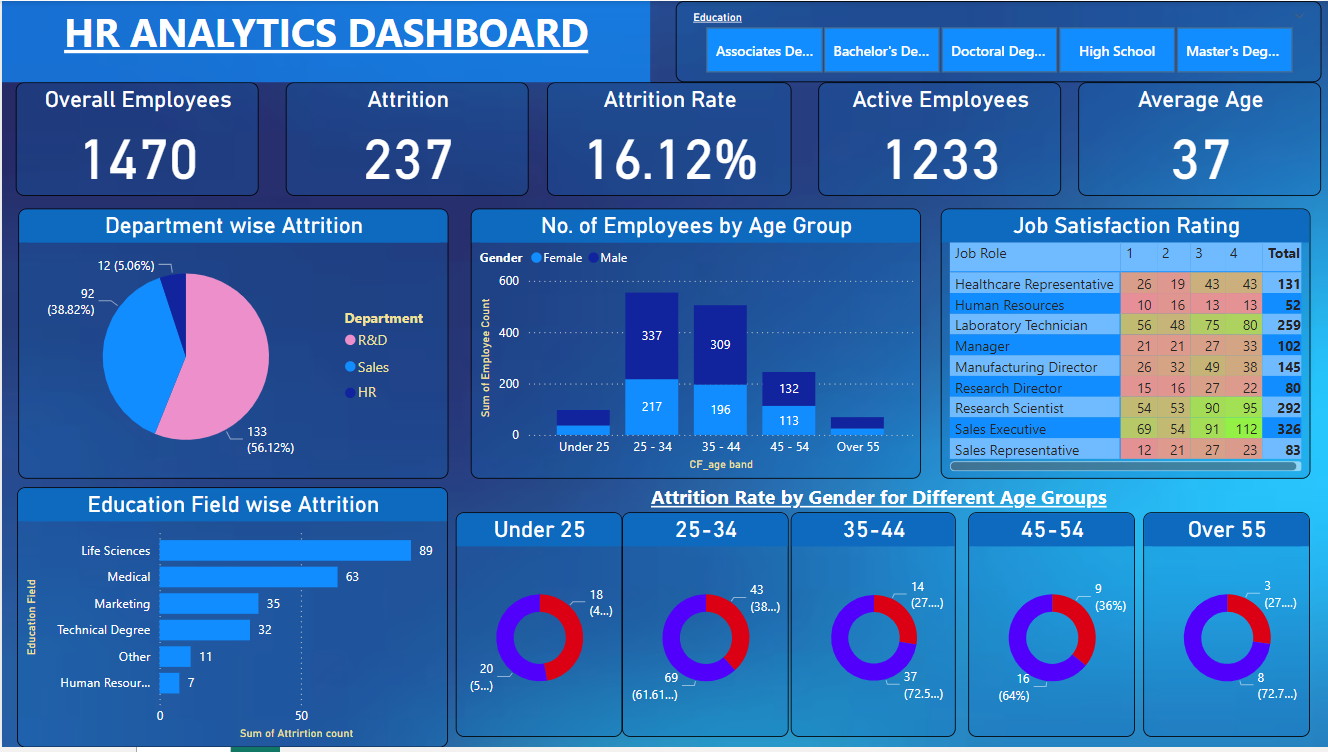

This screenshot's page, from the dashboard's own definition file:
{"tool":"powerbi","page":{"name":"Page 1","canvas":[1280,720],"ordinal":0},"visuals":[{"type":"card","title":"Overall Employees","fields":{"Values":["Sum(HR data.Employee Count)"]},"box":[13.7,78.2,234.6,109.8],"z":0},{"type":"card","title":"Attrition","fields":{"Values":["Sum(HR data.Attrirtion count)"]},"box":[274.4,78.2,234.6,109.8],"z":1000},{"type":"card","title":"Attrition Rate","fields":{"Values":["HR data.Attrirtion Rate"]},"box":[525.6,78.2,236,109.8],"z":2000},{"type":"card","title":"Active Employees","fields":{"Values":["HR data.Active Employees"]},"box":[787.7,78.2,234.6,109.8],"z":3000},{"type":"card","title":"Average Age","fields":{"Values":["Avg(HR data.Age)"]},"box":[1038.8,78.2,234.6,109.8],"z":4000},{"type":"pieChart","title":"Department wise Attrition","fields":{"Category":["HR data.Department"],"Y":["Sum(HR data.Attrirtion count)"]},"box":[15.7,200.2,414.9,260.5],"z":5000},{"type":"columnChart","title":"No. of Employees by Age Group","fields":{"Category":["HR data.CF_age band"],"Y":["Sum(HR data.Employee Count)"],"Series":["HR data.Gender"]},"box":[452.3,200.2,434.2,260.5],"z":6000},{"type":"pivotTable","title":"Job Satisfaction Rating","fields":{"Rows":["HR data.Job Role"],"Columns":["HR data.Job Satisfaction"],"Values":["Sum(HR data.Employee Count)"]},"box":[905.7,200.2,357,260.5],"z":7000},{"type":"barChart","title":"Education Field wise Attrition","fields":{"Category":["HR data.Education Field"],"Y":["Sum(HR data.Attrirtion count)"]},"box":[14.5,469.1,416.1,250.9],"z":8000},{"type":"donutChart","title":"Under 25","fields":{"Y":["Sum(HR data.Attrirtion count)"],"Category":["HR data.Gender"],"Series":["HR data.CF_age band"]},"box":[437.7,494,160.5,216.8],"z":9000},{"type":"donutChart","title":"25-34","fields":{"Y":["Sum(HR data.Attrirtion count)"],"Category":["HR data.Gender"],"Series":["HR data.CF_age band"]},"box":[598.3,494,160.5,216.8],"z":10000},{"type":"donutChart","title":"35-44","fields":{"Y":["Sum(HR data.Attrirtion count)"],"Category":["HR data.Gender"],"Series":["HR data.CF_age band"]},"box":[761.6,494,159.2,216.8],"z":11000},{"type":"donutChart","title":"45-54","fields":{"Y":["Sum(HR data.Attrirtion count)"],"Category":["HR data.Gender"],"Series":["HR data.CF_age band"]},"box":[933.1,494,160.5,216.8],"z":12000},{"type":"donutChart","title":"Over 55","fields":{"Y":["Sum(HR data.Attrirtion count)"],"Category":["HR data.Gender"],"Series":["HR data.CF_age band"]},"box":[1101.9,494,160.5,216.8],"z":13000},{"type":"textbox","box":[452.3,460.7,787.5,39.8],"z":14000},{"type":"slicer","fields":{"Values":["HR data.Education"]},"box":[650.4,0,623,78.2],"z":15000},{"type":"textbox","box":[0,0,625.7,78.2],"z":16000}]}

Visuals, with their boxes in screenshot pixels (x1, y1, x2, y2), scaled from the page's 1280x720 canvas onto the 1328x752 screenshot:
"Overall Employees" card: 14:82:258:196
"Attrition" card: 285:82:528:196
"Attrition Rate" card: 545:82:790:196
"Active Employees" card: 817:82:1061:196
"Average Age" card: 1078:82:1321:196
"Department wise Attrition" pieChart: 16:209:447:481
"No. of Employees by Age Group" columnChart: 469:209:920:481
"Job Satisfaction Rating" pivotTable: 940:209:1310:481
"Education Field wise Attrition" barChart: 15:490:447:751
"Under 25" donutChart: 454:516:621:742
"25-34" donutChart: 621:516:787:742
"35-44" donutChart: 790:516:955:742
"45-54" donutChart: 968:516:1135:742
"Over 55" donutChart: 1143:516:1310:742
textbox: 469:481:1286:523
slicer - HR data.Education: 675:0:1321:82
textbox: 0:0:649:82
